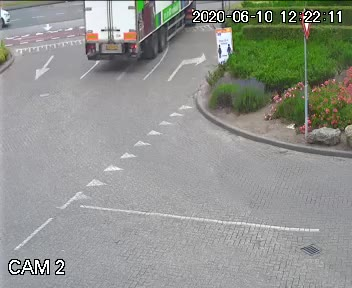car: (75, 0, 220, 78)
